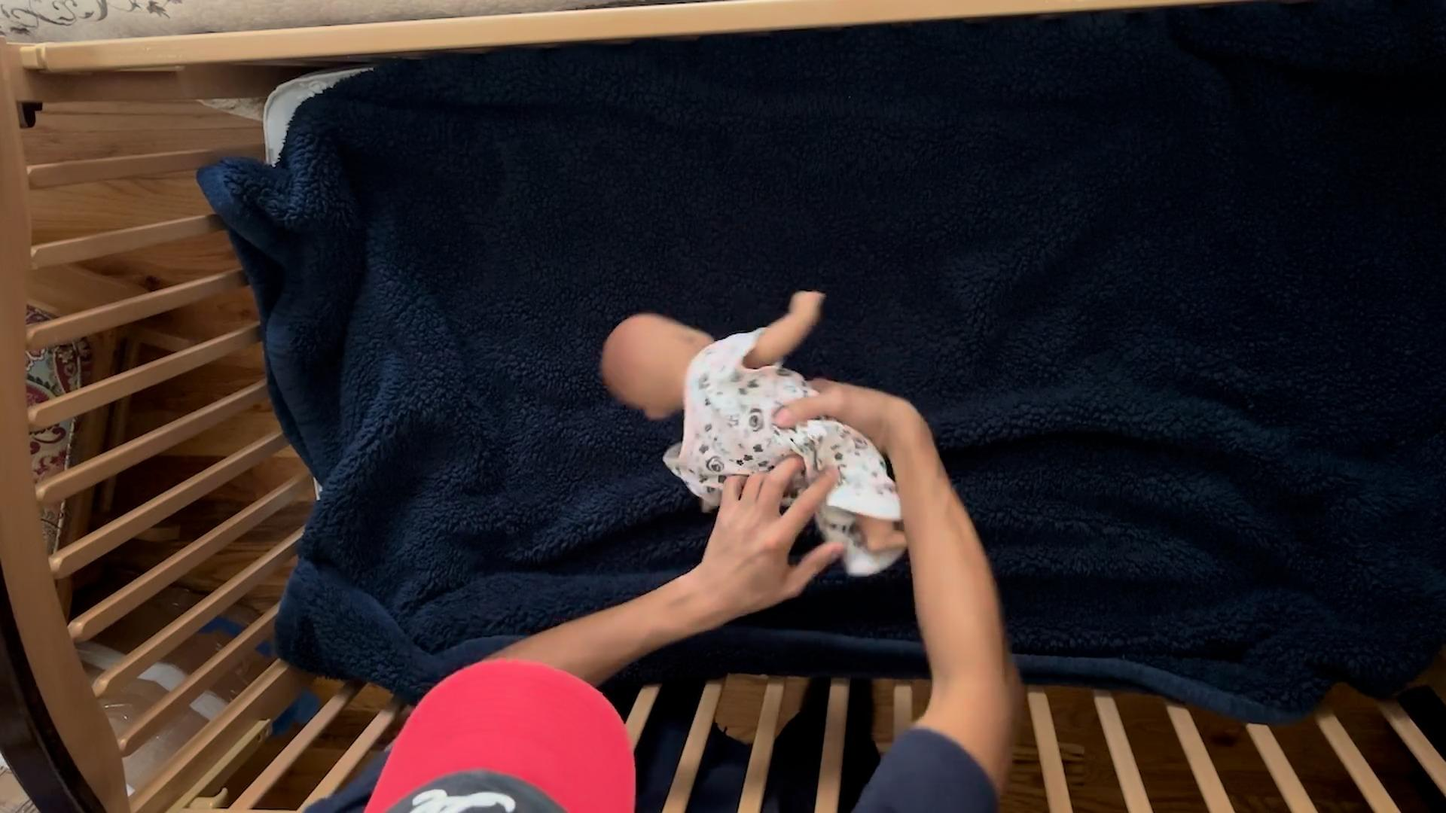baby: (593, 286, 940, 588)
